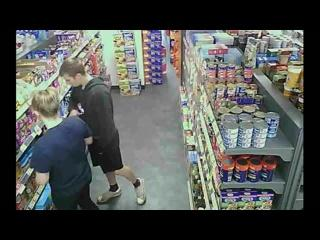Normal: (59, 58, 147, 206), (29, 87, 100, 210)
